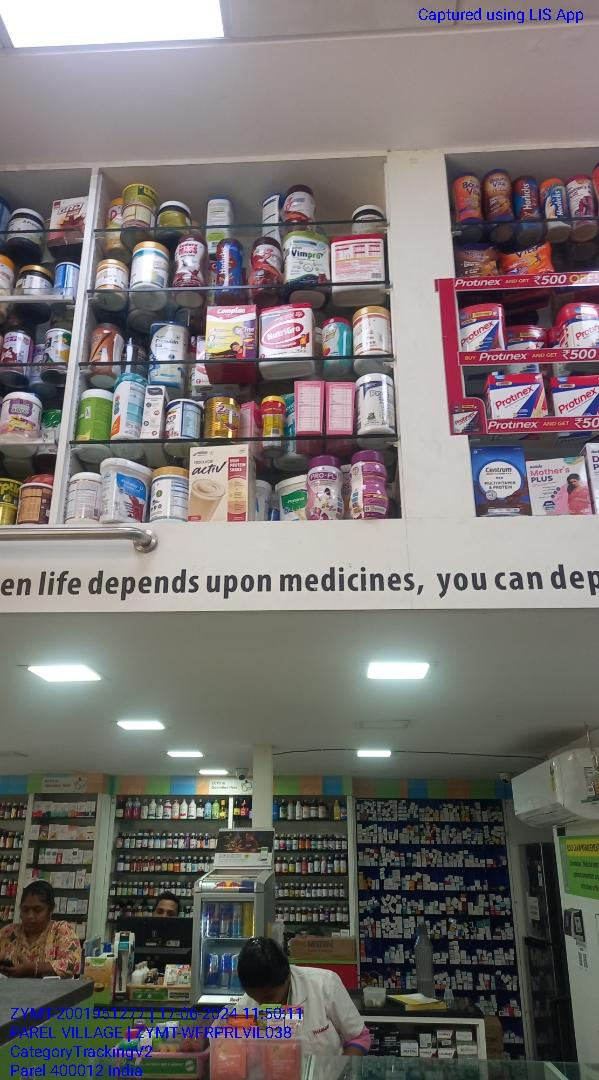BOURN_VITA_FIVE_STAR_MAGIC_500_G_JAR: (485, 166, 514, 221)
HORLICK_CHOCOLATE_500_G_JAR: (216, 238, 243, 295), (516, 174, 541, 232)
HORLICK_CLASSIC_MALT_500_G_JAR: (543, 177, 569, 227)
PROTINEX_CHOCOLATE_400_G_JAR: (460, 303, 503, 351)
